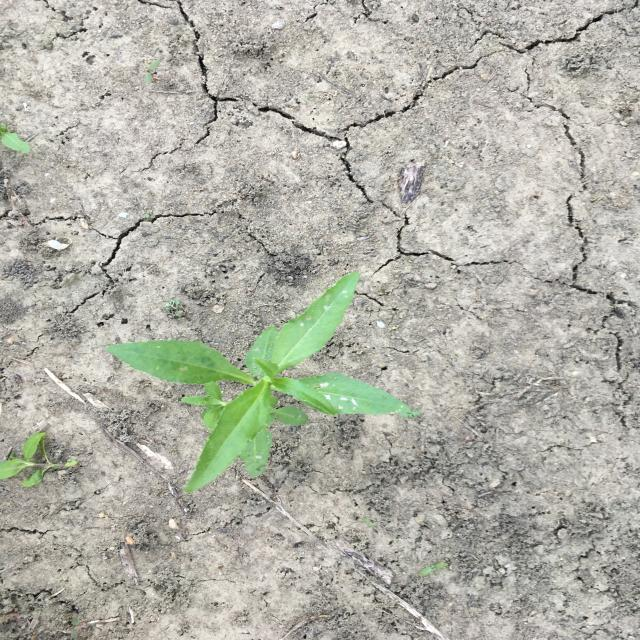Eclipta: (103, 269, 414, 494)
